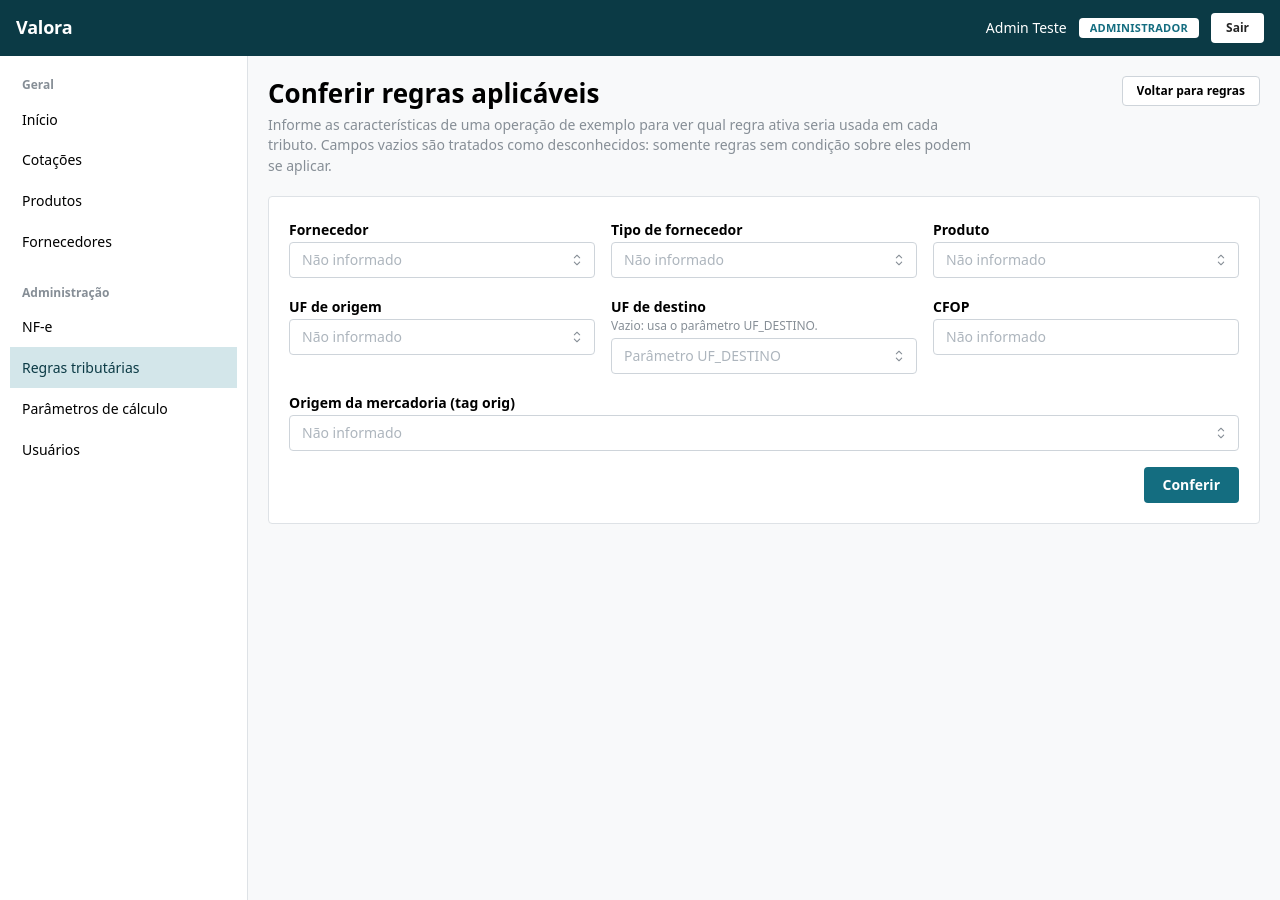
RegrasAplicaveisPage › mostra o erro da API, inclusive 403
Expected: the heading "Conferir regras aplicáveis" is shown, [268, 75, 599, 111]
What coordinates should you click on to do the following:
click the button "Conferir"
I would click on:
 (1191, 485)
Its box is [1144, 467, 1239, 503].
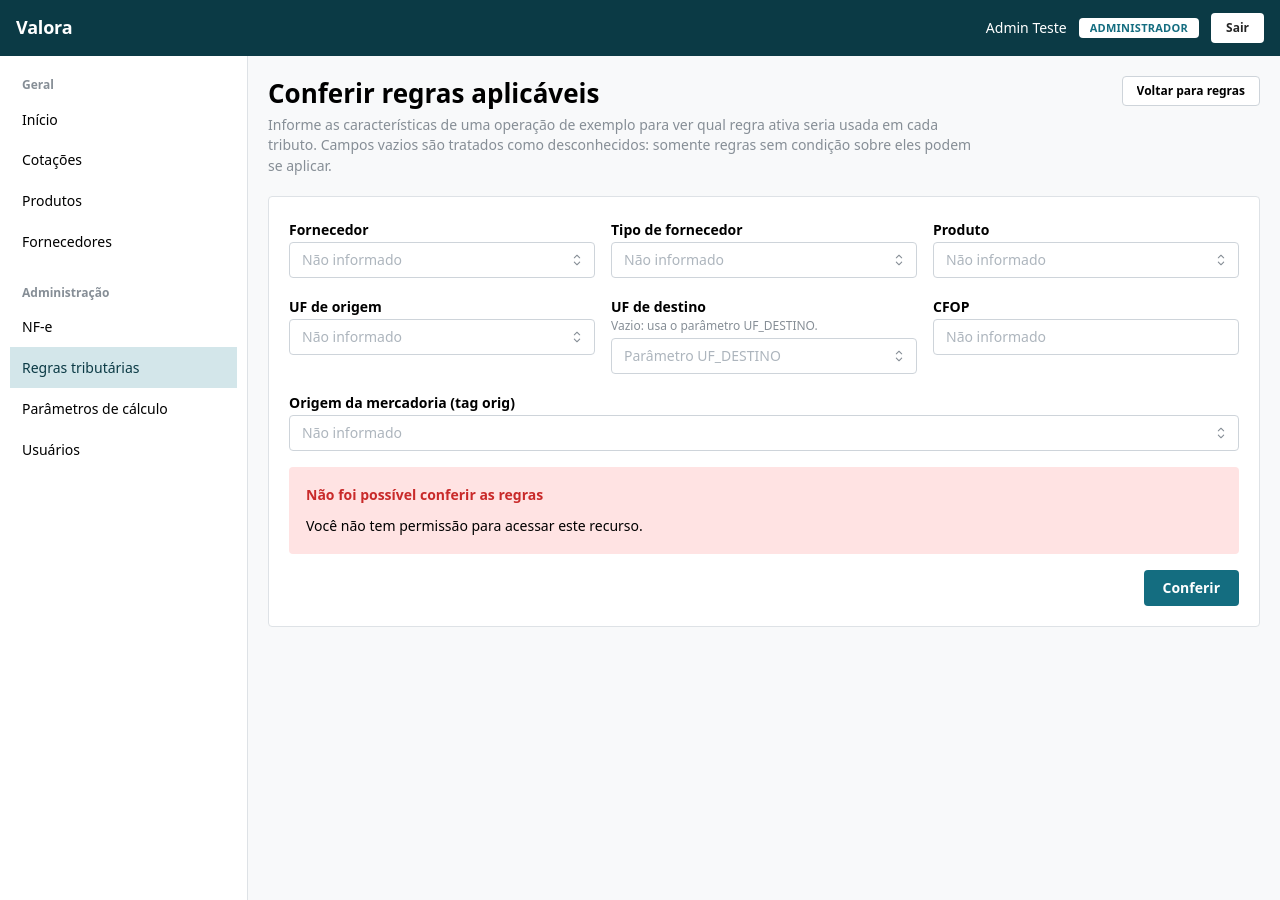
Expected: the message shows "Não foi possível conferir as regras", [306, 485, 543, 504]
Expected: the message shows "Você não tem permissão para acessar este recurso.", [306, 516, 643, 536]
